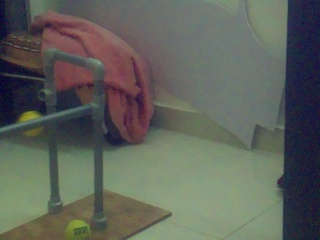ball: (16, 111, 41, 122)
